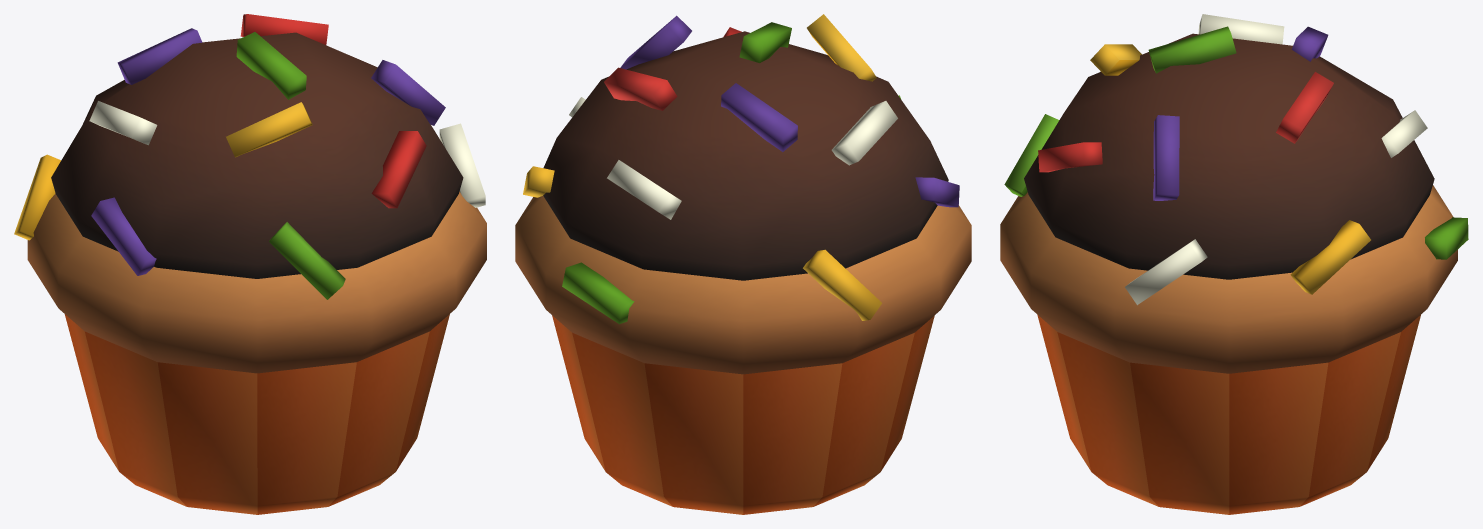
The model's file is m_Cupcake09.fbx.
The picture shows the model from 3 angles, left to right: view 1: azimuth 30°, elevation 25°; view 2: azimuth 150°, elevation 25°; view 3: azimuth 270°, elevation 25°; orthographic projection.
Parts seen in each view (by area): view 1: m_Cupcake09; view 2: m_Cupcake09; view 3: m_Cupcake09.
Boxes of the visible parts, x1,y1,x2,y2 form: m_Cupcake09: (14, 14, 486, 514); m_Cupcake09: (515, 14, 971, 514); m_Cupcake09: (1000, 14, 1468, 514).
Size of the model in its own units: 11.39 by 11.58 by 11.65.
